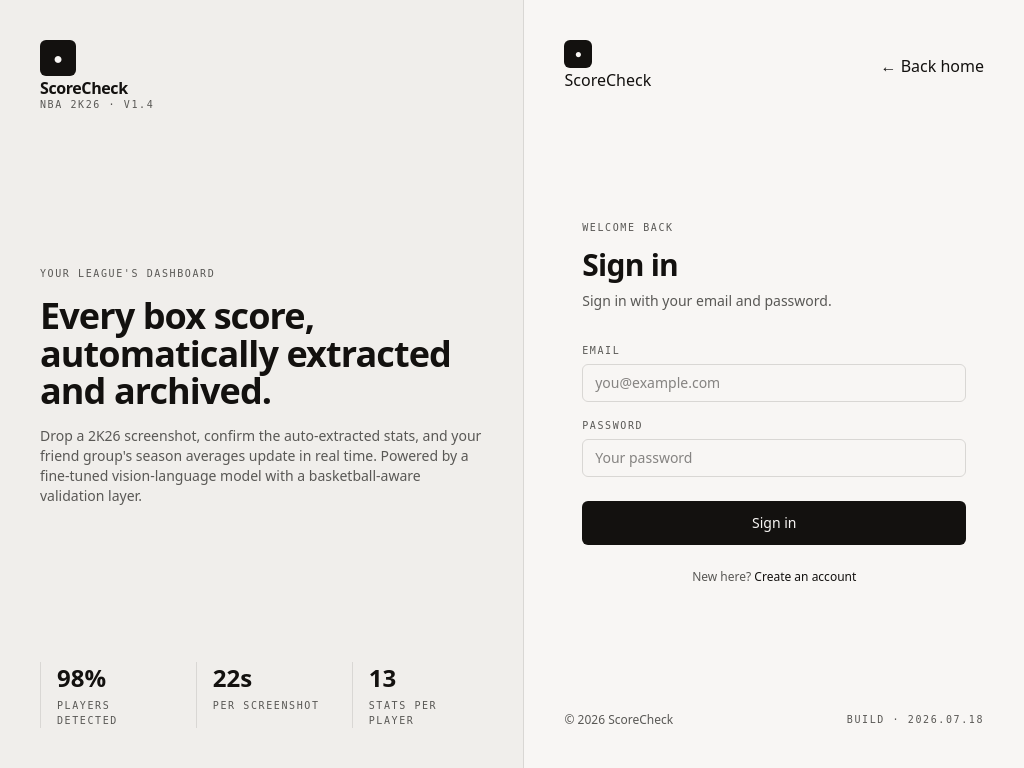
Test: submission state › shows progress and blocks a second submit
This screenshot has width=1024, height=768.
Later steps or results of the test are not shown.
Type "akif@test.local" into the field labelled "Email" at (774, 382), box left=582, top=364, right=966, bottom=402
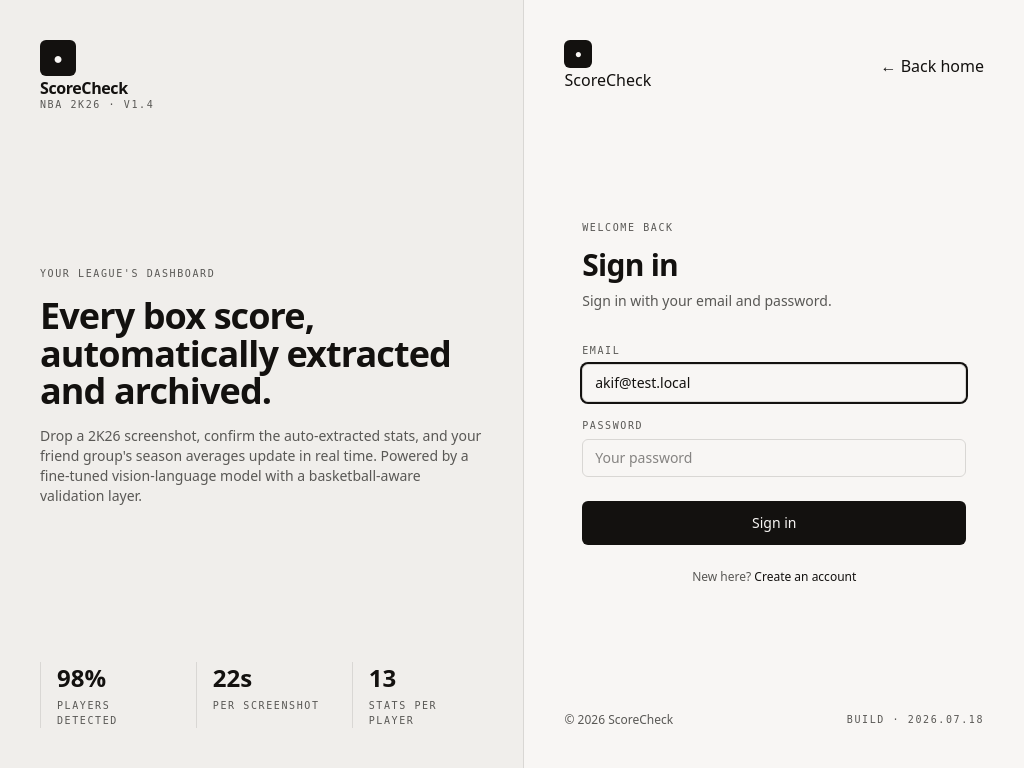
Type "hunter2000" into the password field labelled "Password" at (774, 458), box left=582, top=438, right=966, bottom=476
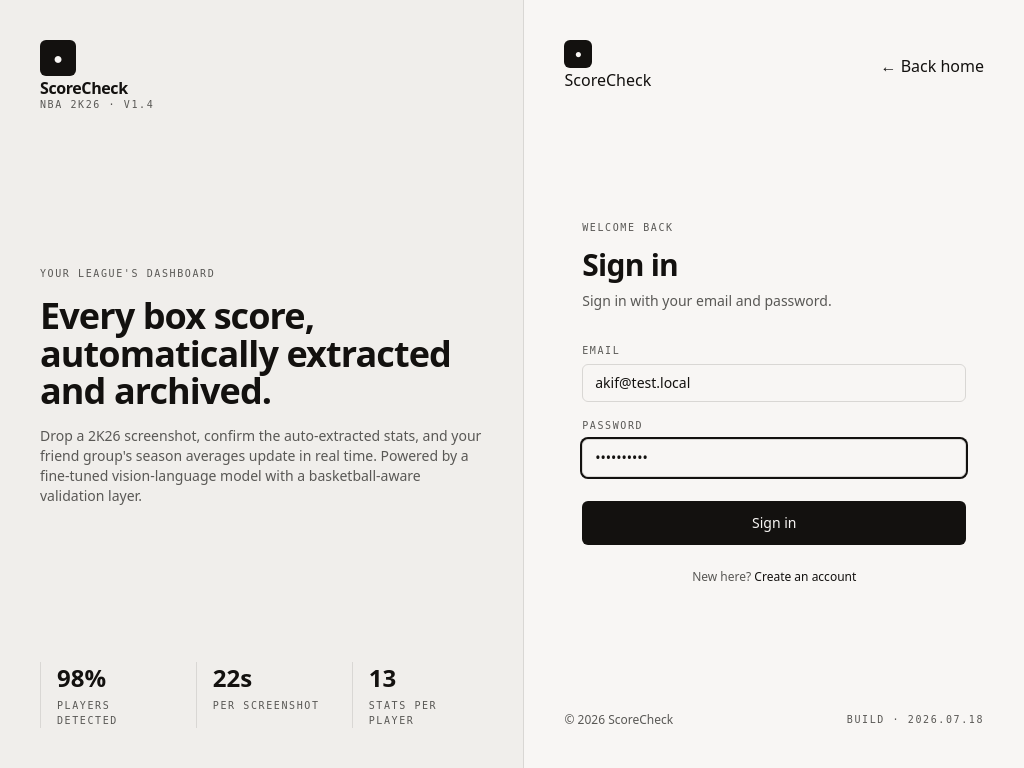
Click the button "Sign in" at (774, 522), box left=582, top=500, right=966, bottom=544
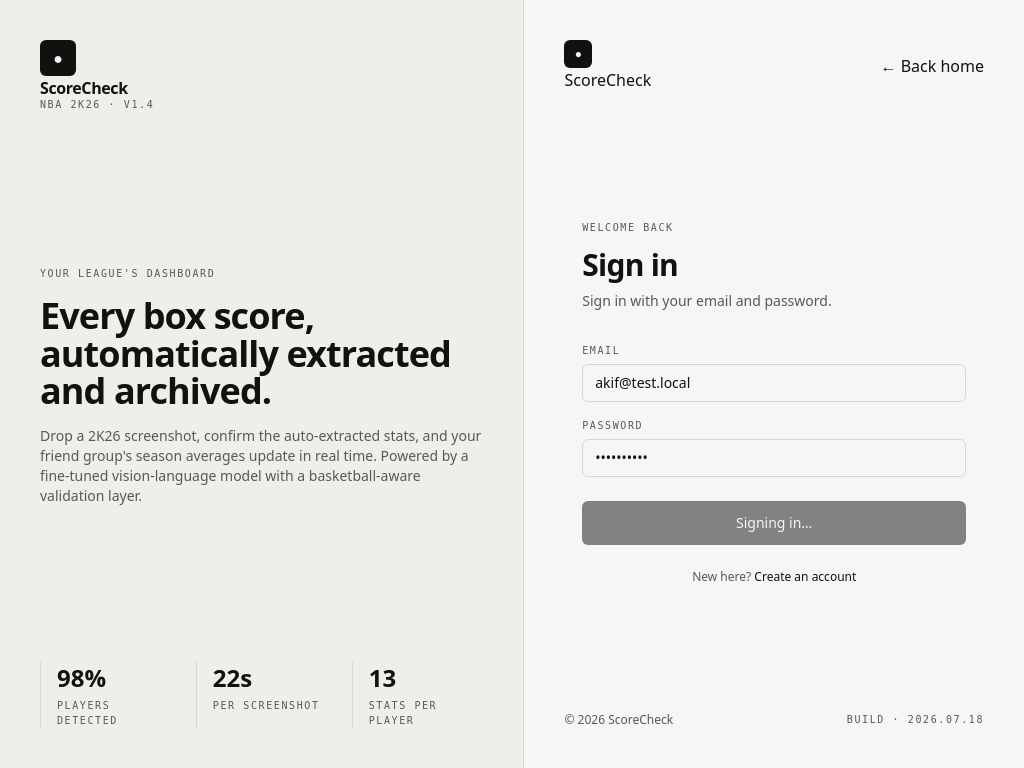
Expected: the button "Signing in…" is disabled, left=582, top=500, right=966, bottom=544
